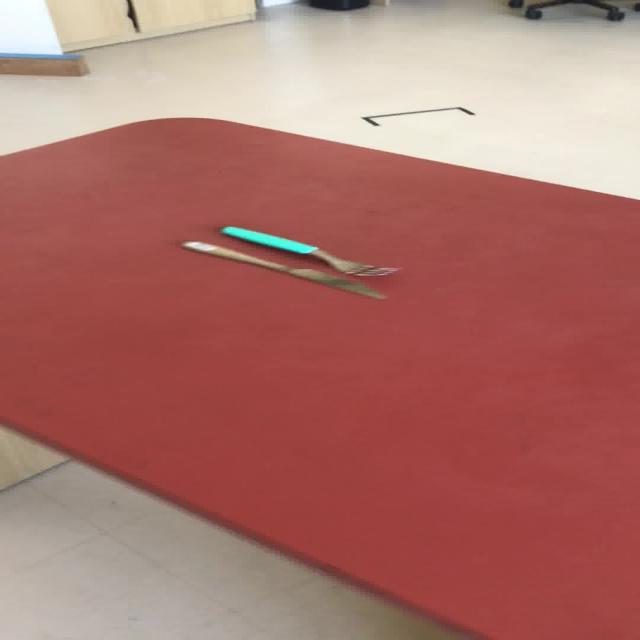fork: (218, 225, 398, 276)
knife fork: (178, 239, 386, 300)
